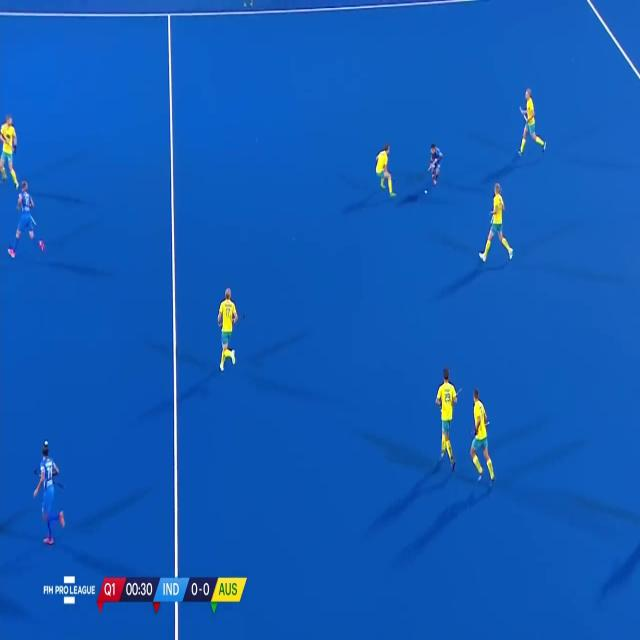ball: (423, 185, 429, 197)
